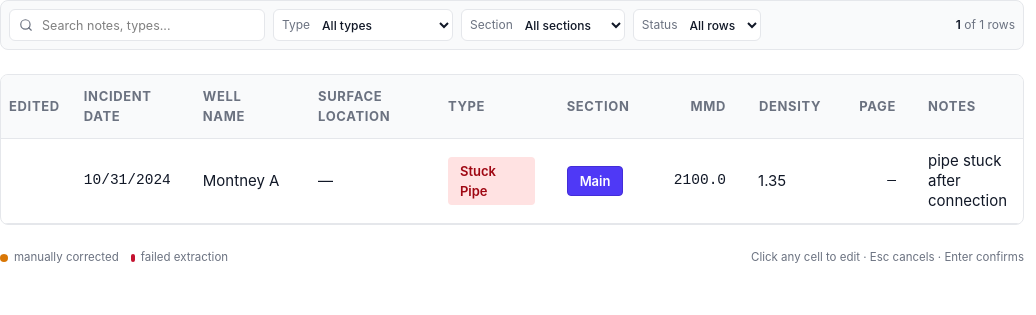
Scenario: OccurrenceTable › active filter shows as pill chip with x button
Select "Stuck Pipe" in the dropdown named "Filter by type" at x=385, y=25, box [318, 12, 452, 38]
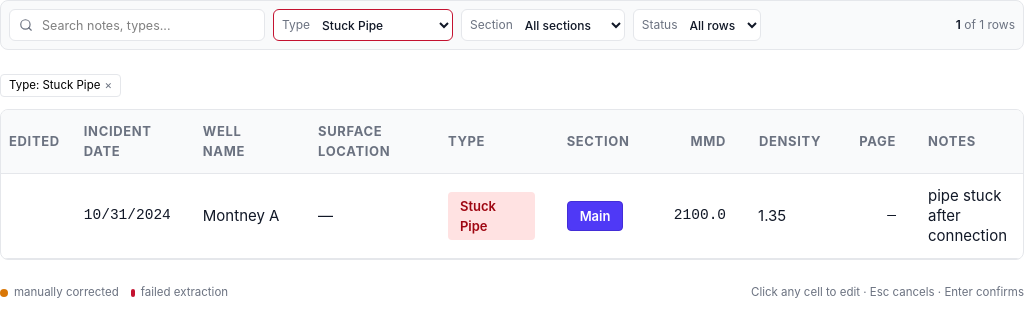
Expected: the text "Type: Stuck Pipe ×" is shown, [0, 74, 121, 97]
Expected: the button named "Remove" is shown, [104, 80, 112, 91]
